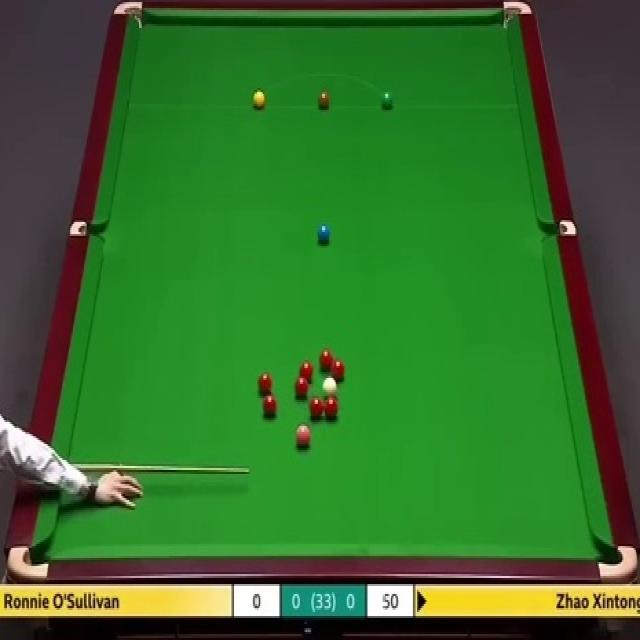blue-ball: (317, 222, 331, 247)
brown-ball: (317, 92, 330, 109)
green-ball: (382, 88, 396, 112)
pink-ball: (294, 422, 313, 451)
red-ball: (322, 397, 340, 421), (258, 372, 274, 397), (317, 348, 333, 371), (309, 398, 323, 423), (263, 394, 277, 418), (296, 378, 310, 401), (331, 361, 345, 383), (299, 362, 313, 382)
white-ball: (320, 375, 338, 400)
yellow-ball: (252, 89, 266, 110)
